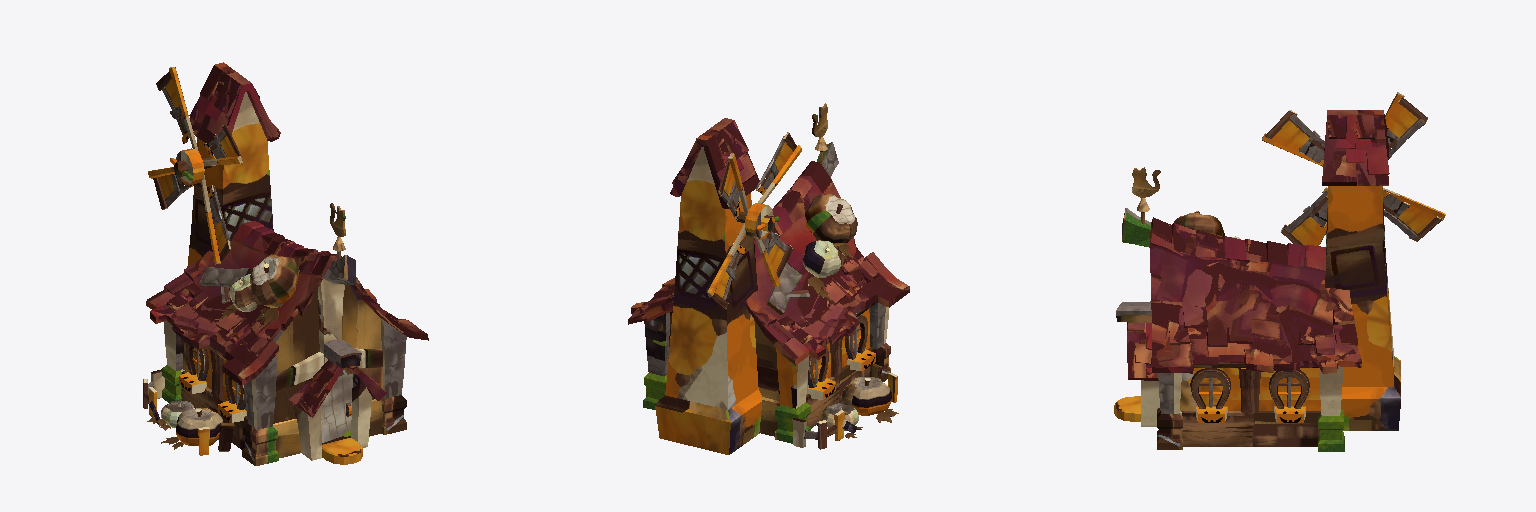
3 views of the same model, side by side, from view 1: azimuth 30°, elevation 25°; view 2: azimuth 150°, elevation 25°; view 3: azimuth 270°, elevation 25° (orthographic).
Visible parts, largest first — view 1: House.109, Roof; view 2: House.109, Roof; view 3: House.109, Roof.
Part boxes in pixels (x1,y1,x2,y2): House.109: (143,67,406,465); Roof: (146,62,428,417); House.109: (643,103,898,454); Roof: (628,118,909,365); House.109: (1114,92,1445,451); Roof: (1127,110,1389,380).
Size of the model in its own units: 0.1659 by 0.2188 by 0.217.
Materials: 2 (2 with a texture image).